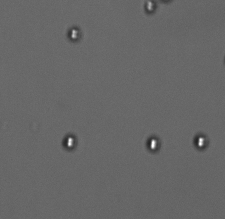Living Cell: (192, 132, 209, 152), (62, 133, 79, 152), (146, 134, 162, 154), (66, 26, 84, 42), (142, 1, 157, 15)
